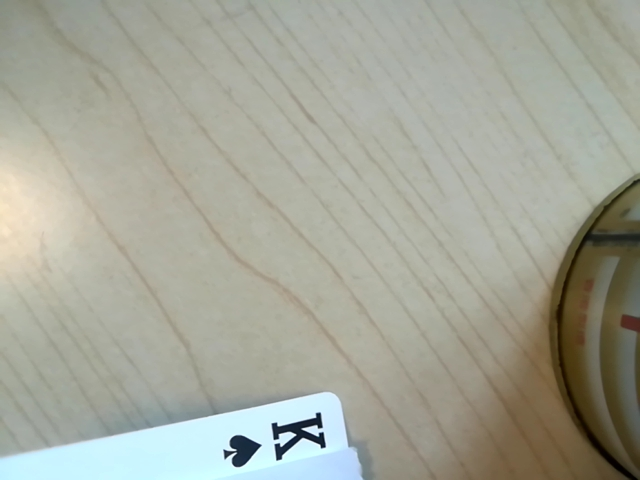ht k: (198, 403, 347, 471)
